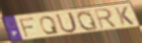F: (18, 16, 36, 39)
K: (114, 6, 136, 26)
Q: (76, 10, 100, 32), (39, 15, 60, 35)
R: (93, 8, 119, 30)
U: (55, 11, 79, 34)
